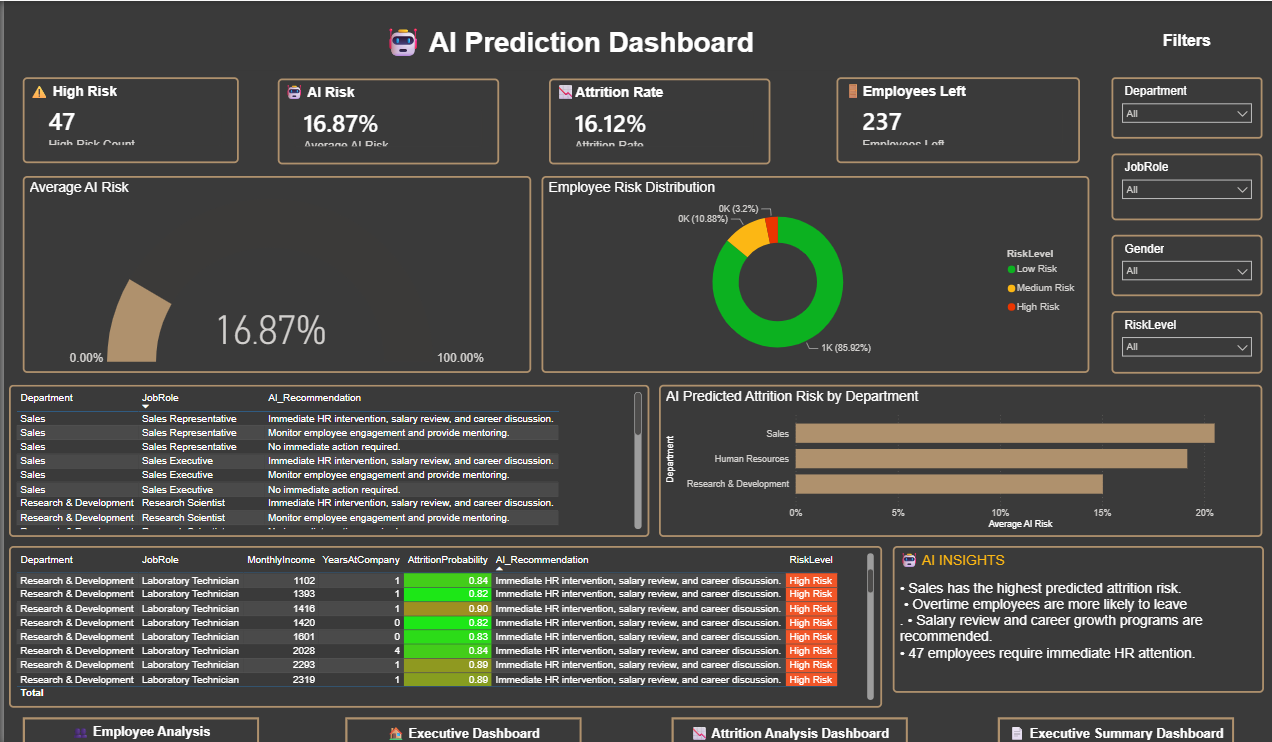

What the dashboard file says about the page in this screenshot:
{"tool":"powerbi","page":{"name":"AI Prediction","canvas":[1700,1000],"ordinal":2},"visuals":[{"type":"textbox","box":[289.8,23.7,934.9,69.3],"z":0},{"type":"cardVisual","title":"⚠️ High Risk","fields":{"Data":["FactEmployee.High Risk Count"]},"box":[25.5,102.1,289.8,114.8],"z":1000},{"type":"cardVisual","title":"🤖 AI Risk","fields":{"Data":["FactEmployee.Average AI Risk"]},"box":[366.3,103.9,297.1,114.8],"z":2000},{"type":"cardVisual","title":"📉Attrition Rate","fields":{"Data":["FactEmployee.Attrition Rate"]},"box":[730.8,103.9,297.1,114.8],"z":3000},{"type":"cardVisual","title":"🚪Employees Left","fields":{"Data":["FactEmployee.Employees Left"]},"box":[1115.4,102.1,326.2,114.8],"z":4000},{"type":"gauge","fields":{"Y":["FactEmployee.Average AI Risk"]},"box":[25.5,235.1,681.6,264.3],"z":5000},{"type":"donutChart","title":"Employee Risk Distribution","fields":{"Category":["FactEmployee.RiskLevel"],"Y":["FactEmployee.Total Employees"]},"box":[719.9,235.1,734.5,264.3],"z":6000},{"type":"clusteredBarChart","title":"AI Predicted Attrition Risk by Department","fields":{"Category":["FactEmployee.Department"],"Y":["FactEmployee.Average AI Risk"]},"box":[878.4,513.9,809.2,204.1],"z":7000},{"type":"tableEx","fields":{"Values":["FactEmployee.Department","FactEmployee.JobRole","FactEmployee.MonthlyIncome","FactEmployee.YearsAtCompany","FactEmployee.AttritionProbability","FactEmployee.AI_Recommendation","FactEmployee.RiskLevel"]},"box":[7.3,730.8,1170,216.9],"z":8000},{"type":"tableEx","fields":{"Values":["FactEmployee.Department","FactEmployee.JobRole","FactEmployee.AI_Recommendation"]},"box":[7.3,513.9,858.4,204.1],"z":9000},{"type":"slicer","fields":{"Values":["FactEmployee.Department"]},"box":[1485.3,102.1,202.3,82],"z":10000},{"type":"slicer","fields":{"Values":["FactEmployee.JobRole"]},"box":[1485.3,204.1,202.3,89.3],"z":11000},{"type":"slicer","fields":{"Values":["FactEmployee.Gender"]},"box":[1485.3,313.5,202.3,82],"z":12000},{"type":"slicer","fields":{"Values":["FactEmployee.RiskLevel"]},"box":[1485.3,415.5,202.3,83.8],"z":13000},{"type":"actionButton","box":[25.5,960.4,317.1,38.3],"z":14000},{"type":"actionButton","box":[457.4,960.4,317.1,40.1],"z":15000},{"type":"textbox","title":"🤖 AI INSIGHTS","box":[1191.9,730.8,497.5,196.8],"z":16000},{"type":"actionButton","box":[894.8,960.4,317.1,40.1],"z":16001},{"type":"actionButton","box":[1332.2,960.4,317.1,40.1],"z":16002},{"type":"textbox","box":[1485.3,36.4,202.3,43.7],"z":16003}]}

Visuals, with their boxes in screenshot pixels (x1, y1, x2, y2), scaled from the page's 1700x1000 canvas onto the 1272x742 screenshot:
textbox: box=[217, 18, 916, 69]
"⚠️ High Risk" cardVisual: box=[19, 76, 236, 161]
"🤖 AI Risk" cardVisual: box=[274, 77, 496, 162]
"📉Attrition Rate" cardVisual: box=[547, 77, 769, 162]
"🚪Employees Left" cardVisual: box=[835, 76, 1079, 161]
gauge - FactEmployee.Average AI Risk: box=[19, 174, 529, 371]
"Employee Risk Distribution" donutChart: box=[539, 174, 1088, 371]
"AI Predicted Attrition Risk by Department" clusteredBarChart: box=[657, 381, 1263, 533]
tableEx - FactEmployee.Department x FactEmployee.JobRole: box=[5, 542, 881, 703]
tableEx - FactEmployee.Department x FactEmployee.JobRole: box=[5, 381, 648, 533]
slicer - FactEmployee.Department: box=[1111, 76, 1263, 137]
slicer - FactEmployee.JobRole: box=[1111, 151, 1263, 218]
slicer - FactEmployee.Gender: box=[1111, 233, 1263, 293]
slicer - FactEmployee.RiskLevel: box=[1111, 308, 1263, 370]
actionButton: box=[19, 713, 256, 741]
actionButton: box=[342, 713, 580, 741]
"🤖 AI INSIGHTS" textbox: box=[892, 542, 1264, 688]
actionButton: box=[670, 713, 907, 741]
actionButton: box=[997, 713, 1234, 741]
textbox: box=[1111, 27, 1263, 59]
